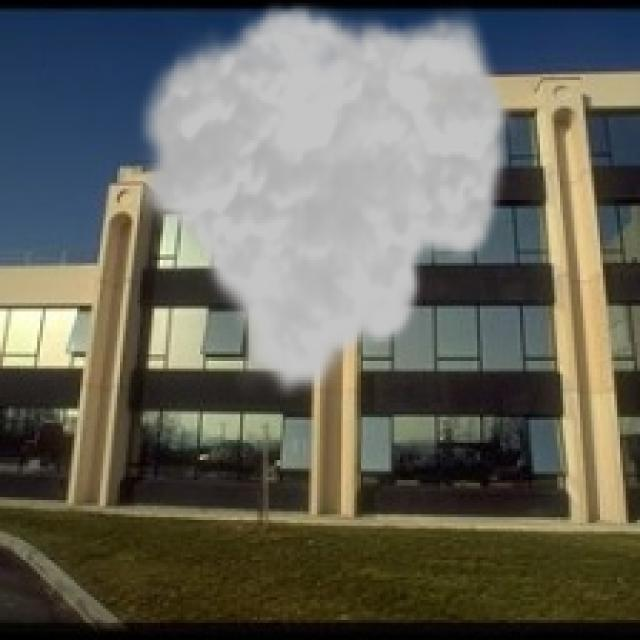Smoke: (128, 0, 518, 403)
